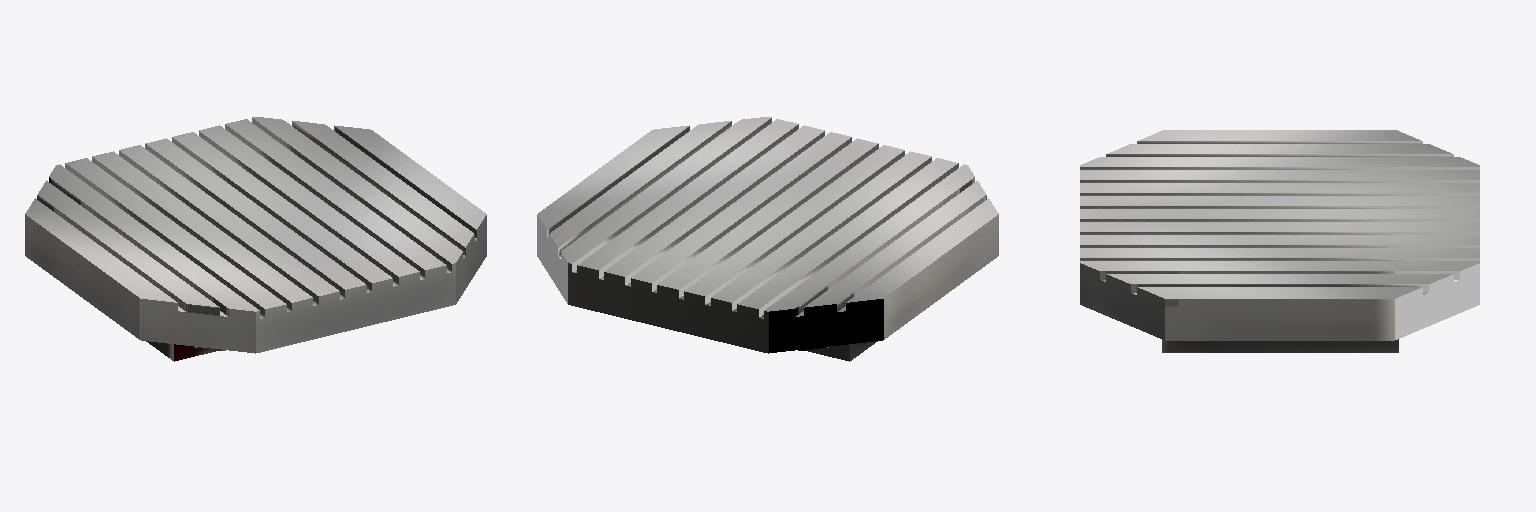
3 views of the same model, side by side, from view 1: azimuth 30°, elevation 25°; view 2: azimuth 150°, elevation 25°; view 3: azimuth 270°, elevation 25° (orthographic).
Visible parts, largest first — view 1: STC800_gongzuotai1, STC800_zhuantai2; view 2: STC800_gongzuotai1, STC800_zhuantai2; view 3: STC800_gongzuotai1, STC800_zhuantai2.
Boxes of the visible parts, x1=… form: STC800_gongzuotai1: x1=25, y1=117, x2=486, y2=353; STC800_zhuantai2: x1=146, y1=341, x2=217, y2=361; STC800_gongzuotai1: x1=537, y1=117, x2=998, y2=353; STC800_zhuantai2: x1=806, y1=341, x2=877, y2=361; STC800_gongzuotai1: x1=1080, y1=130, x2=1479, y2=340; STC800_zhuantai2: x1=1162, y1=339, x2=1398, y2=352.
Bounding box in the file's own units: 2.6 × 0.6003 × 2.6.
Materials: 2 (2 with a texture image).